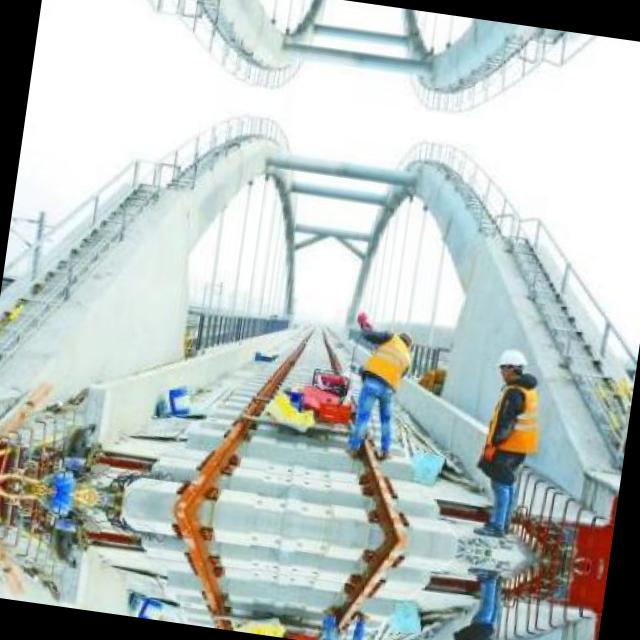helmet: (494, 344, 531, 385), (393, 323, 416, 350)
